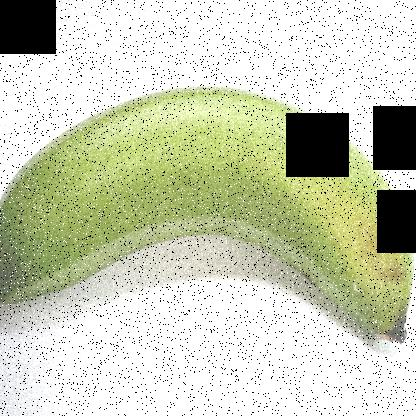freshunripe: (1, 70, 415, 364)
